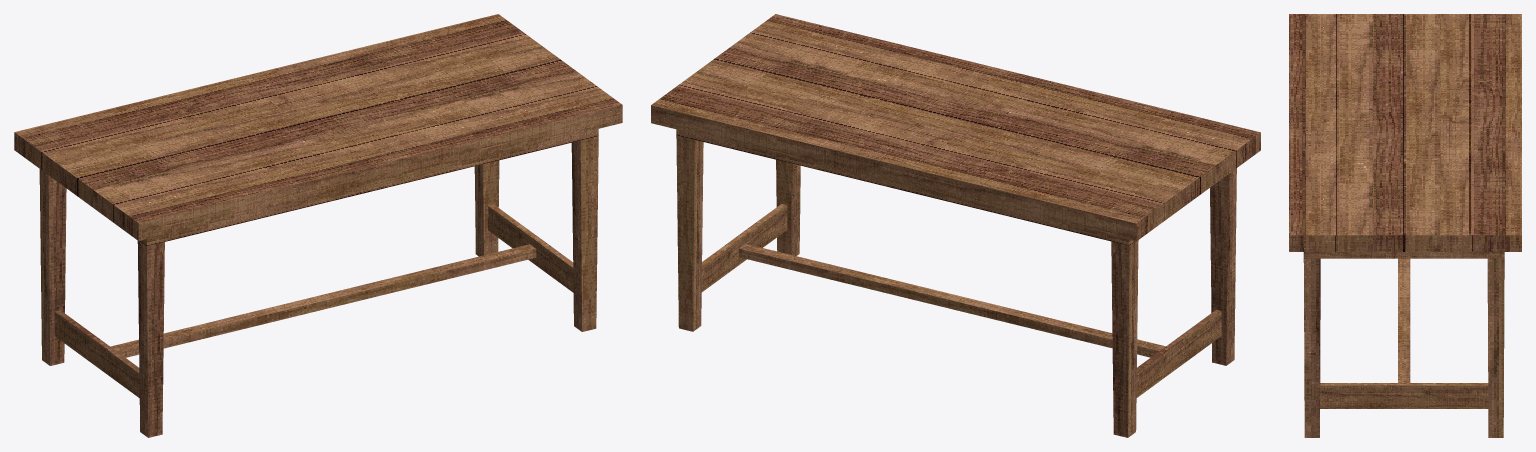
The model's file is psx_table.glb.
3 views of the same model, side by side, from view 1: azimuth 30°, elevation 25°; view 2: azimuth 150°, elevation 25°; view 3: azimuth 270°, elevation 25° (orthographic). The views are drawn at different scales.
Visible parts, largest first — view 1: Cube; view 2: Cube; view 3: Cube.
Part boxes in pixels (<box>): Cube: <box>14,14,622,437</box>; Cube: <box>651,14,1260,437</box>; Cube: <box>1289,14,1521,437</box>.
Size of the model in its own units: 1.8 by 0.8005 by 0.8.
Materials: 1 (1 with a texture image).
